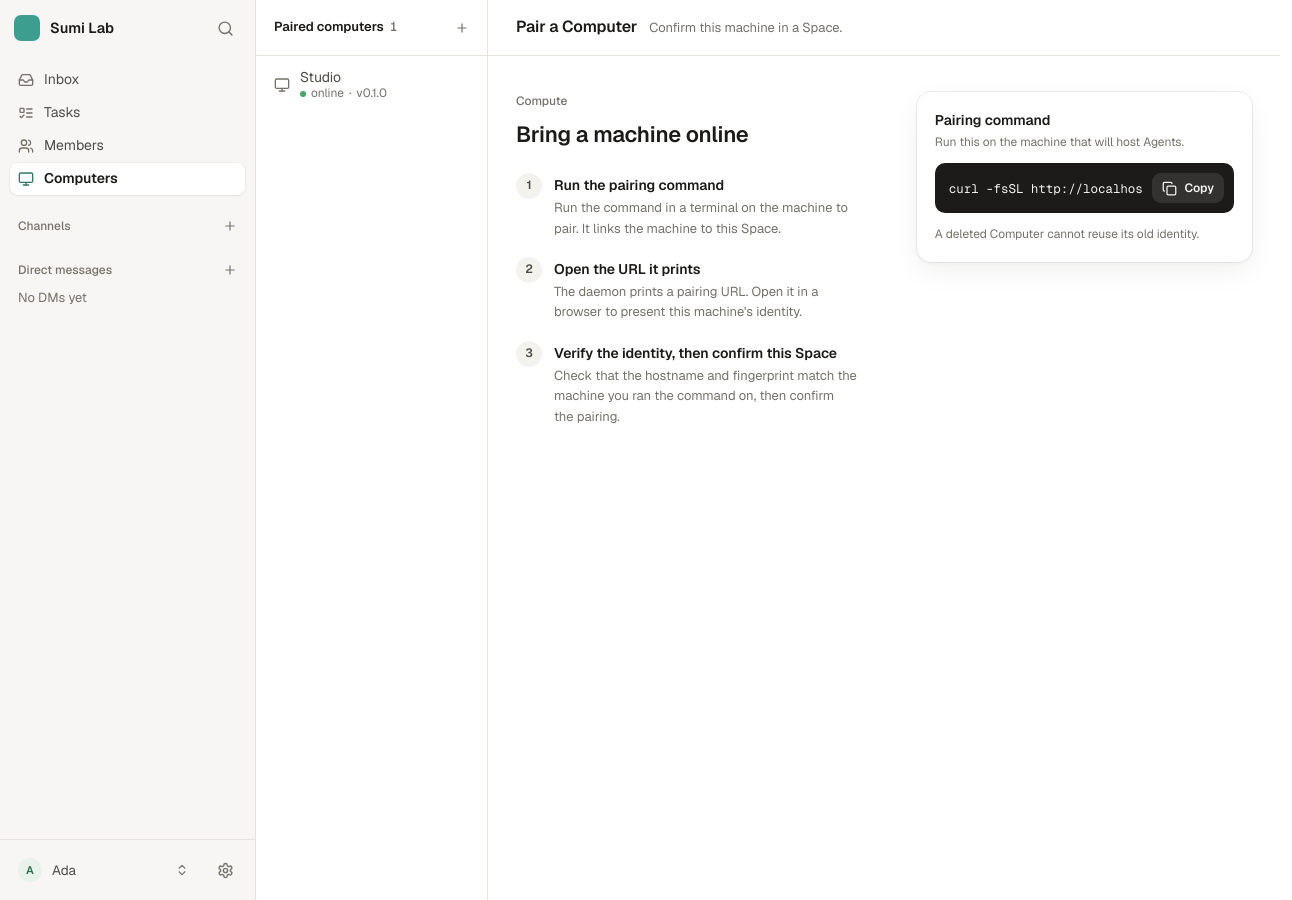
Test case: Computer flows › opens pairing instructions from the Computer list header
Step 1. Click the link named "Pair Computer" → (462, 28), box [455,20,469,34]
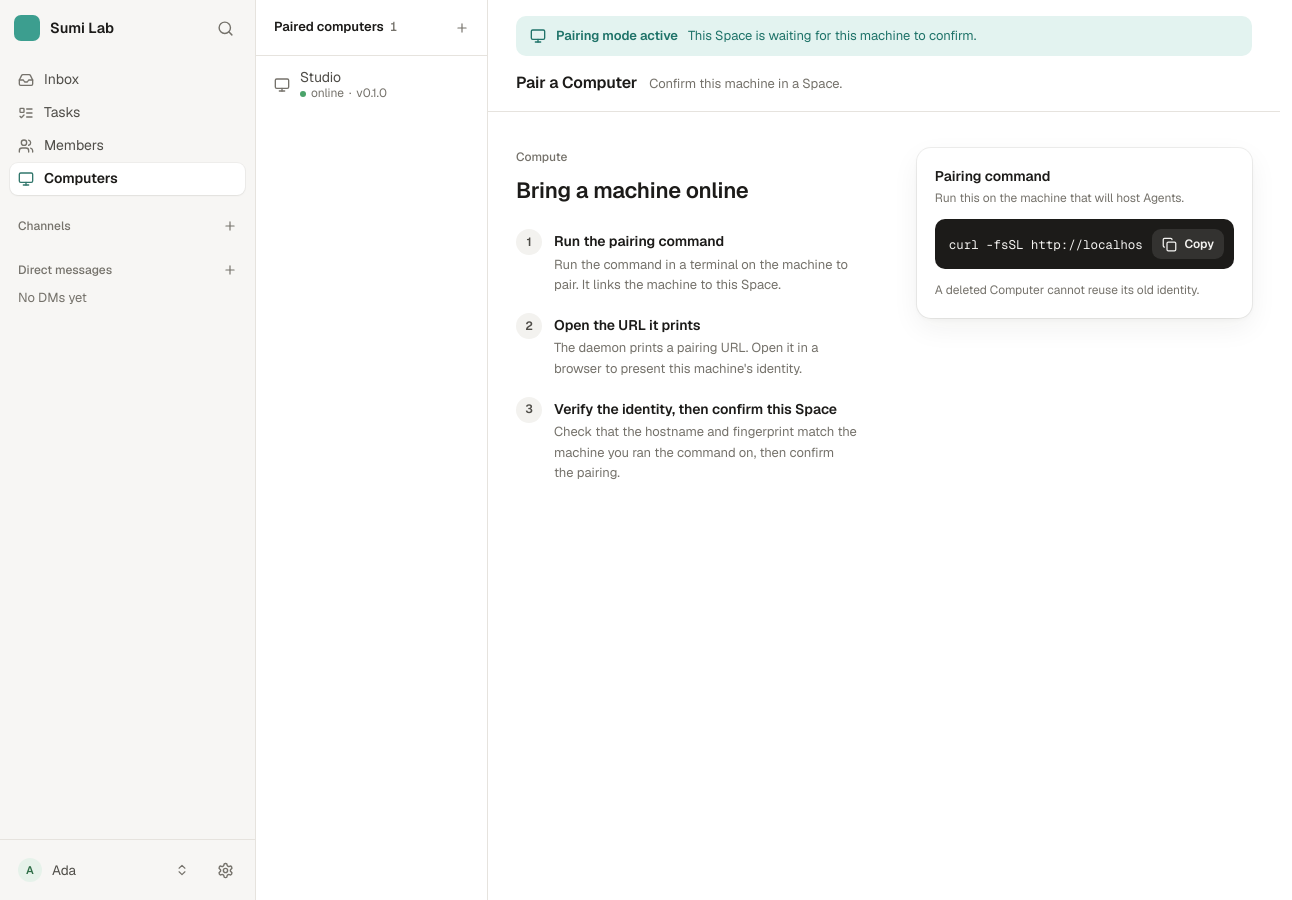
Expected: the heading "Pair a Computer" is shown, [516,73,637,94]
Now the message shows "Pairing mode active", box [556,27,678,44]
